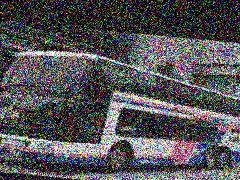bus: (0, 46, 240, 180)
